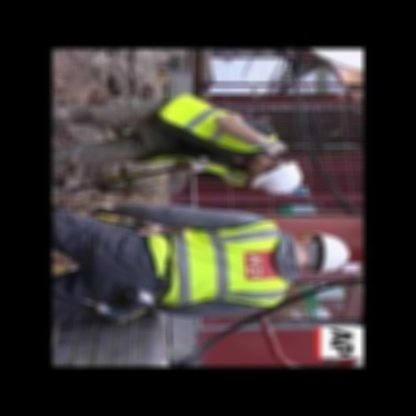vest: (149, 214, 294, 307), (151, 91, 281, 185)
white: (308, 224, 356, 276), (250, 155, 308, 193)
